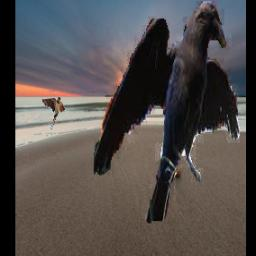Crow: (94, 1, 240, 223)
Swallow: (42, 97, 66, 131)
